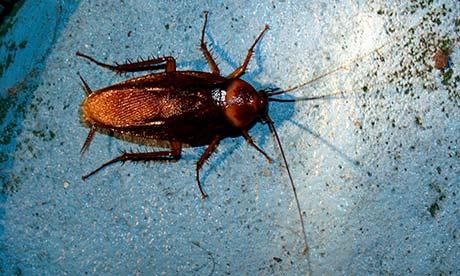cockroach: (74, 56, 282, 165)
